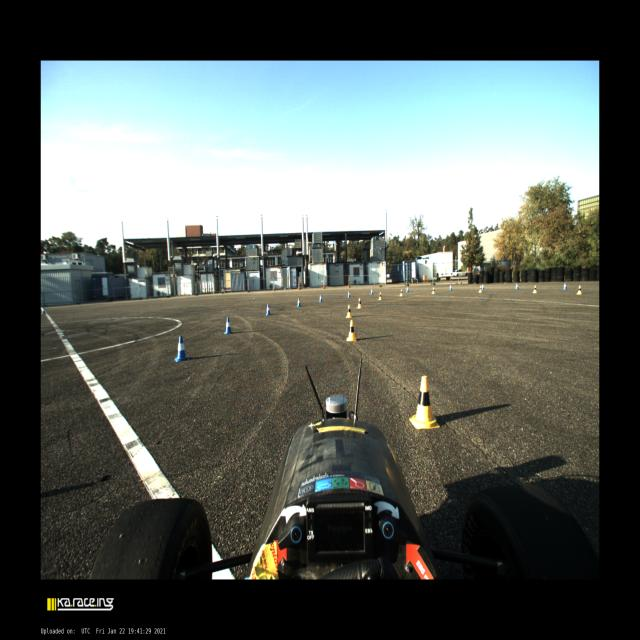blue_cone: (174, 336, 189, 362), (224, 317, 233, 334), (265, 304, 271, 315), (296, 298, 302, 306), (563, 282, 567, 290), (347, 290, 351, 298), (318, 294, 322, 302), (515, 283, 519, 290), (406, 286, 409, 292), (370, 288, 373, 294), (481, 284, 484, 290), (449, 285, 452, 290)
yellow_cone: (409, 377, 440, 429), (346, 320, 356, 342), (345, 305, 352, 318), (356, 298, 362, 309), (576, 285, 582, 294), (532, 285, 537, 293), (478, 286, 482, 294), (378, 292, 382, 300), (432, 287, 435, 294), (400, 289, 402, 296)
